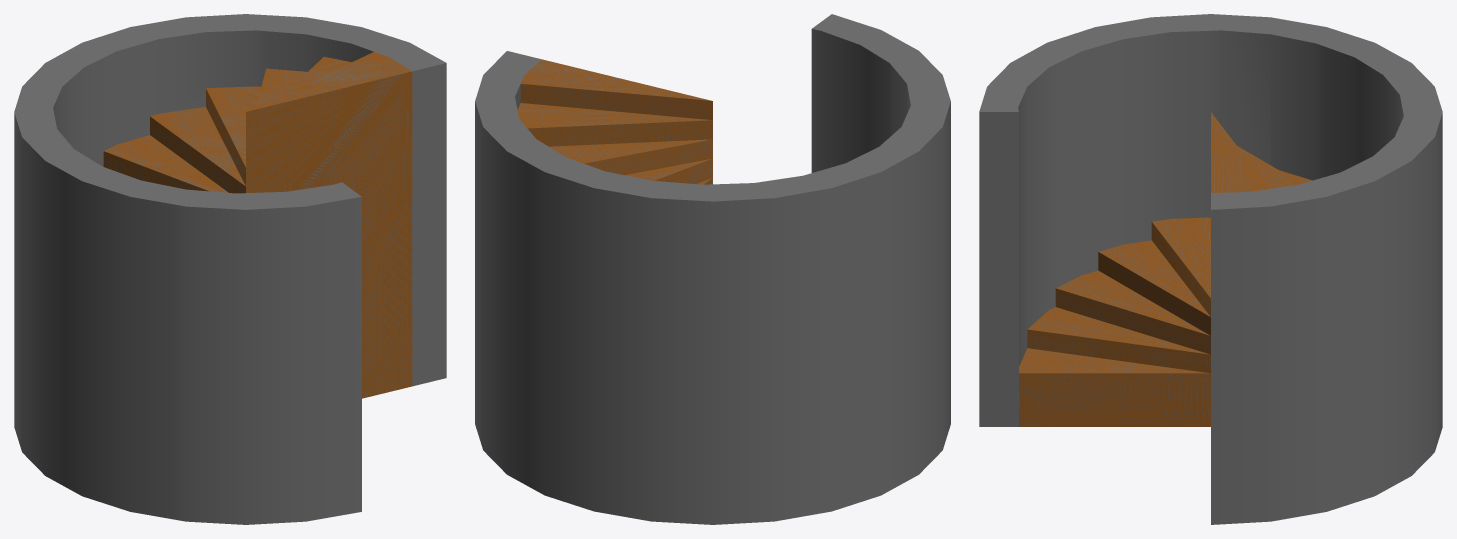
The model's file is Dungeon_Stairs_Small_Full_Timber_StoneWall_01.fbx.
3 views of the same model, side by side, from view 1: azimuth 30°, elevation 25°; view 2: azimuth 150°, elevation 25°; view 3: azimuth 270°, elevation 25° (orthographic). The views are drawn at different scales.
Parts seen in each view (by area): view 1: Model; view 2: Model; view 3: Model.
Part boxes in pixels (<box>): Model: <box>14,14,446,524</box>; Model: <box>475,14,950,524</box>; Model: <box>979,14,1442,524</box>.
Bounding box in the file's own units: 357 × 267 × 357.
